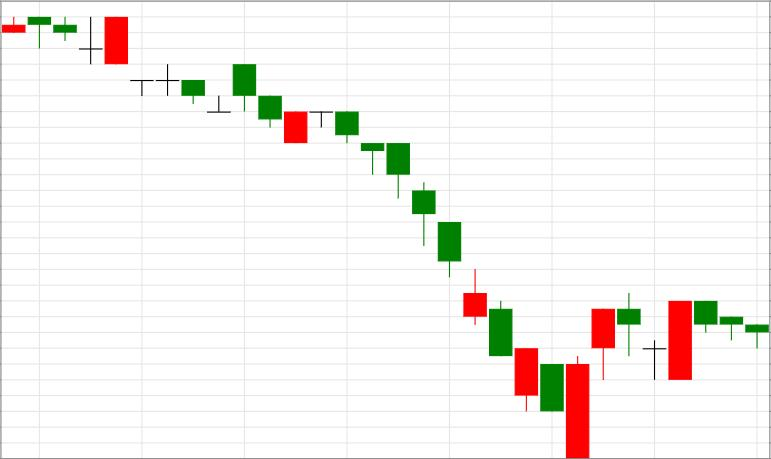bullish_engulfing_rise: (336, 112, 589, 459)
